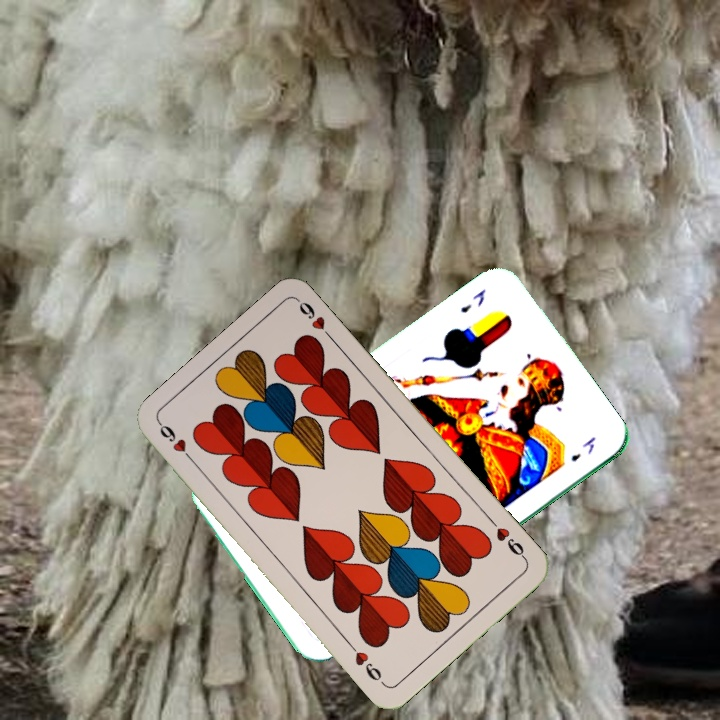EK: (456, 285, 489, 316)
H9: (485, 515, 529, 563), (155, 419, 199, 467)
